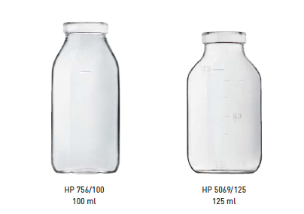glass_bottle: (183, 27, 264, 178), (49, 18, 125, 176)
